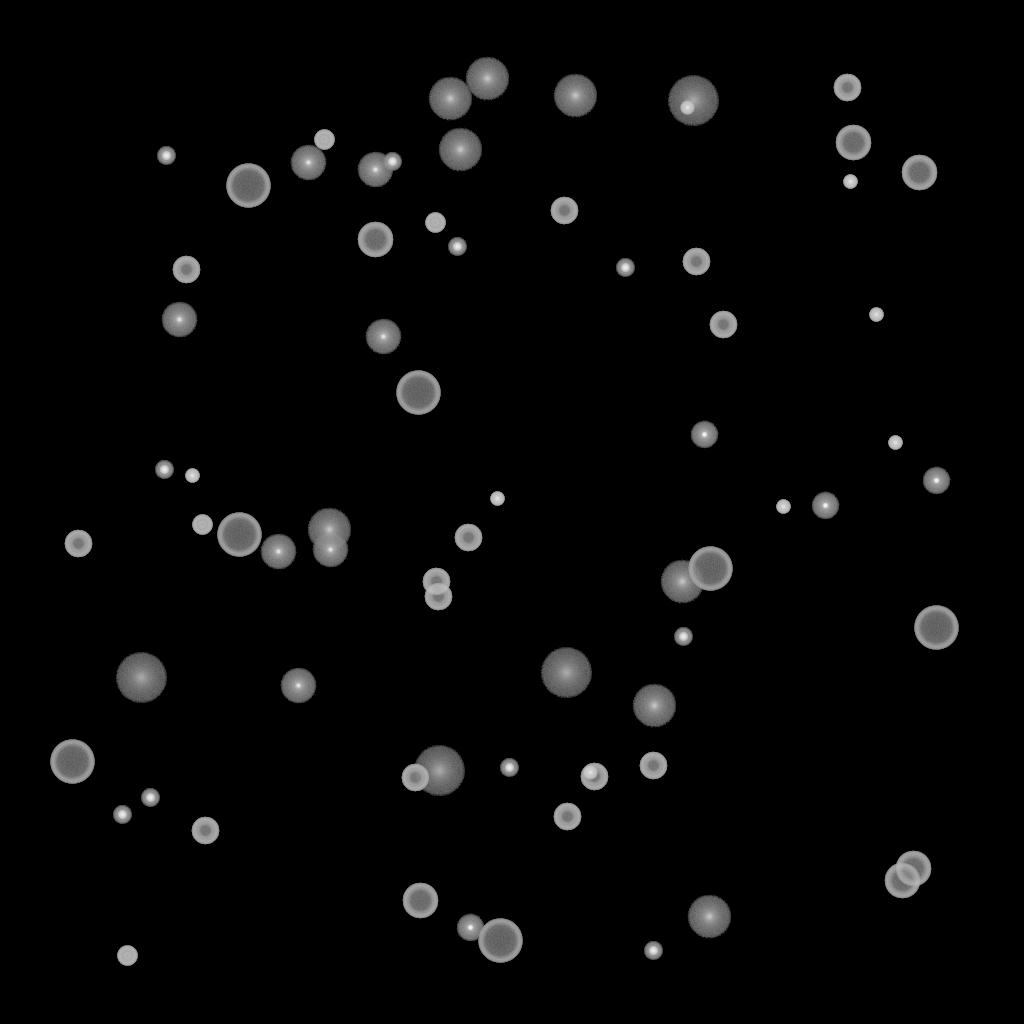depth:-10: (811, 492, 839, 520), (456, 914, 484, 942), (922, 467, 950, 495), (690, 421, 718, 449)
depth:-20: (113, 806, 131, 824), (674, 628, 692, 646), (500, 759, 518, 777), (448, 238, 466, 256), (616, 259, 634, 277), (644, 942, 662, 960), (155, 461, 173, 479), (157, 147, 175, 165), (383, 153, 401, 171), (141, 789, 159, 807)
depth:-30: (680, 101, 694, 115), (490, 492, 504, 506), (869, 308, 883, 322), (888, 436, 902, 450), (583, 766, 597, 780), (843, 175, 857, 189), (776, 500, 790, 514), (185, 469, 199, 483)
depth:-40: (314, 130, 334, 150), (425, 213, 445, 233), (192, 515, 212, 535), (117, 946, 137, 966)
depth:-50: (833, 74, 861, 102), (580, 763, 608, 791), (191, 817, 219, 845), (454, 524, 482, 552), (639, 752, 667, 780), (553, 803, 581, 831), (401, 764, 429, 792), (172, 256, 200, 284), (64, 530, 92, 558), (682, 248, 710, 276), (550, 197, 578, 225), (424, 583, 452, 611), (709, 311, 737, 339), (422, 568, 450, 596)
depth:-60: (884, 863, 920, 899), (357, 222, 393, 258), (895, 851, 931, 887), (835, 125, 871, 161), (402, 883, 438, 919), (901, 155, 937, 191)
depth:-70: (50, 740, 94, 784), (217, 513, 261, 557), (396, 371, 440, 415), (226, 164, 270, 208), (478, 919, 522, 963), (914, 606, 958, 650), (688, 547, 732, 591)
depth:0: (161, 302, 197, 338), (290, 145, 326, 181), (280, 668, 316, 704), (365, 319, 401, 355), (357, 152, 393, 188), (312, 532, 348, 568), (260, 534, 296, 570)
depth:10: (438, 128, 482, 172), (687, 895, 731, 939), (465, 57, 509, 101), (307, 508, 351, 552), (553, 74, 597, 118), (428, 77, 472, 121), (660, 560, 704, 604), (632, 684, 676, 728)
depth:20: (667, 76, 719, 126), (540, 648, 592, 698), (115, 653, 167, 703), (413, 746, 465, 796)
